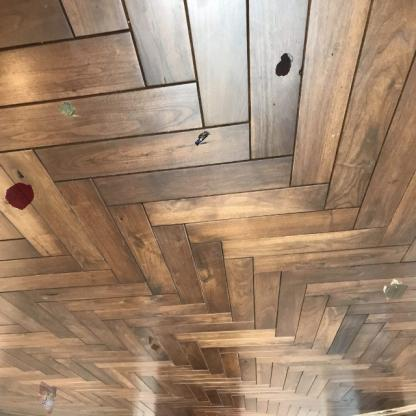dirty: (35, 380, 58, 416), (381, 277, 409, 301), (57, 99, 81, 119), (192, 129, 212, 147), (147, 334, 163, 354)
liquid: (3, 182, 36, 212), (274, 52, 294, 78)
